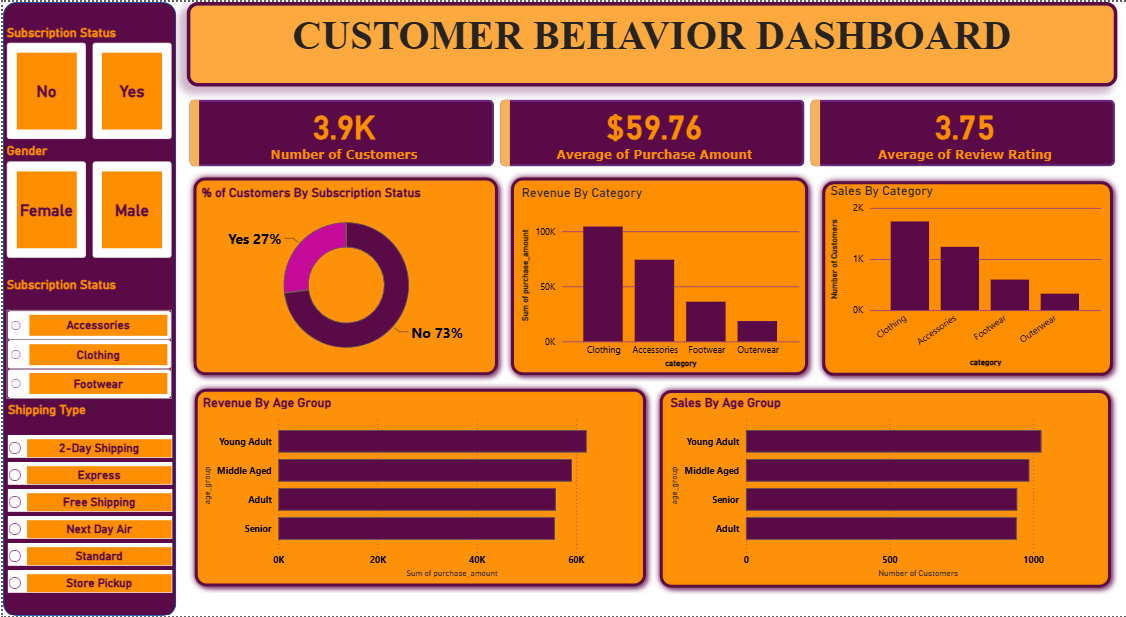

The page's visual inventory and layout, read from the dashboard file:
{"tool":"powerbi","page":{"name":"Page 1","canvas":[1500,820],"ordinal":0},"visuals":[{"type":"cardVisual","fields":{"Data":["public customer.Number of Customers","public customer.Averag of Purchase Amount","public customer.Average of Review Rating"]},"box":[231,112.7,1269,123.9],"z":0},{"type":"textbox","box":[245.1,0,1240.8,112.7],"z":1000},{"type":"shape","box":[245.1,225.4,423.9,281.7],"z":2000},{"type":"donutChart","title":"% of Customers By Subscription Status","fields":{"Category":["public customer.subscription_status"],"Y":["CountNonNull(public customer.subscription_status)"]},"box":[260.6,243.7,395.8,249.3],"z":3000},{"type":"shape","box":[669,225.4,414.1,281.7],"z":4000},{"type":"shape","box":[1083.1,229.6,405.6,277.5],"z":5000},{"type":"clusteredColumnChart","title":"Revenue By Category","fields":{"Y":["Sum(public customer.purchase_amount)"],"Category":["public customer.category"]},"box":[687.3,243.7,380.3,249.3],"z":6000},{"type":"clusteredColumnChart","title":"Sales By Category","fields":{"Y":["public customer.Number of Customers"],"Category":["public customer.category"]},"box":[1098.6,242.3,370.4,249.3],"z":7000},{"type":"shape","box":[0,0,231,819.7],"z":8000},{"type":"advancedSlicerVisual","title":"Subscription Status","fields":{"Values":["public customer.subscription_status"]},"box":[0,29.6,231,159.2],"z":9000},{"type":"advancedSlicerVisual","title":"Gender","fields":{"Values":["public customer.gender"]},"box":[0,188.7,231,159.2],"z":10000},{"type":"advancedSlicerVisual","title":"Subscription Status","fields":{"Values":["public customer.category"]},"box":[0,366.2,231,190.1],"z":11000},{"type":"listSlicer","title":"Shipping Type","fields":{"Values":["public customer.shipping_type"]},"box":[1.4,533.8,229.6,285.9],"z":12000},{"type":"shape","box":[246.5,507,619.7,281.7],"z":13000},{"type":"barChart","title":"Revenue By Age Group","fields":{"Category":["public customer.age_group"],"Y":["Sum(public customer.purchase_amount)"]},"box":[262,523.9,584.5,249.3],"z":14000},{"type":"shape","box":[866.2,508.5,619.7,281.7],"z":15000},{"type":"barChart","title":"Sales By Age Group","fields":{"Category":["public customer.age_group"],"Y":["public customer.Number of Customers"]},"box":[884.5,522.5,584.5,249.3],"z":16000}]}

Visuals, with their boxes in screenshot pixels (x1, y1, x2, y2), scaled from the page's 1500x820 canvas onto the 1126x617 screenshot:
cardVisual - public customer.Number of Customers x public customer.Averag of Purchase Amount: [left=173, top=85, right=1125, bottom=178]
textbox: [left=184, top=0, right=1115, bottom=85]
shape: [left=184, top=170, right=502, bottom=382]
"% of Customers By Subscription Status" donutChart: [left=196, top=183, right=493, bottom=371]
shape: [left=502, top=170, right=813, bottom=382]
shape: [left=813, top=173, right=1118, bottom=382]
"Revenue By Category" clusteredColumnChart: [left=516, top=183, right=801, bottom=371]
"Sales By Category" clusteredColumnChart: [left=825, top=182, right=1103, bottom=370]
shape: [left=0, top=0, right=173, bottom=616]
"Subscription Status" advancedSlicerVisual: [left=0, top=22, right=173, bottom=142]
"Gender" advancedSlicerVisual: [left=0, top=142, right=173, bottom=262]
"Subscription Status" advancedSlicerVisual: [left=0, top=276, right=173, bottom=419]
"Shipping Type" listSlicer: [left=1, top=402, right=173, bottom=616]
shape: [left=185, top=381, right=650, bottom=593]
"Revenue By Age Group" barChart: [left=197, top=394, right=635, bottom=582]
shape: [left=650, top=383, right=1115, bottom=595]
"Sales By Age Group" barChart: [left=664, top=393, right=1103, bottom=581]
